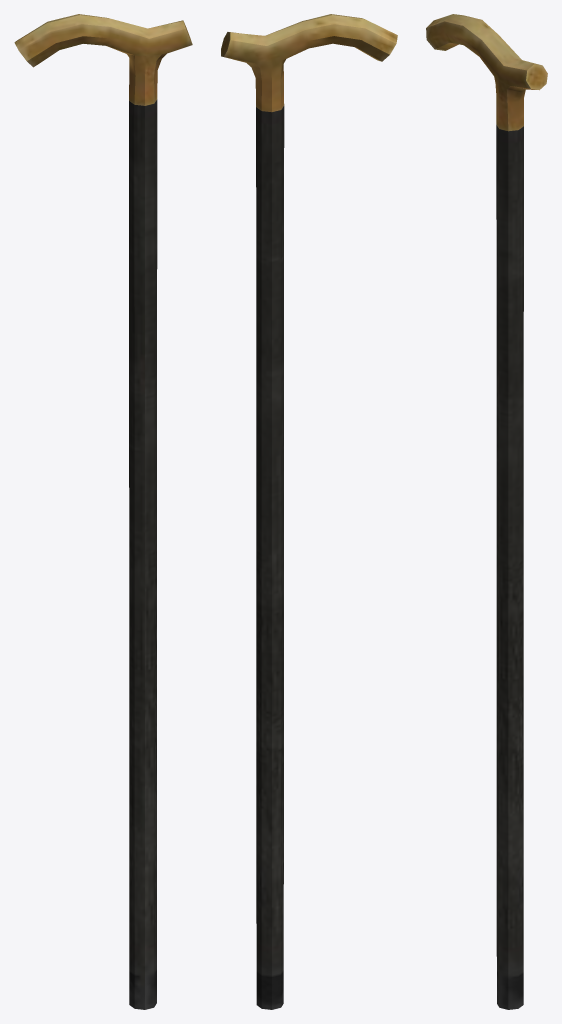
The model's file is cane.glb.
The picture shows the model from 3 angles, left to right: view 1: azimuth 30°, elevation 25°; view 2: azimuth 210°, elevation 25°; view 3: azimuth 330°, elevation 25°; orthographic projection. The views are drawn at different scales.
Parts seen in each view (by area): view 1: cane; view 2: cane; view 3: cane.
Part boxes in pixels (box(x1,y1,x2,y2)): cane: box(14, 14, 192, 1009); cane: box(221, 14, 397, 1009); cane: box(426, 14, 547, 1009).
Size of the model in its own units: 0.1303 by 0.8382 by 0.0702.
Materials: 1 (1 with a texture image).
